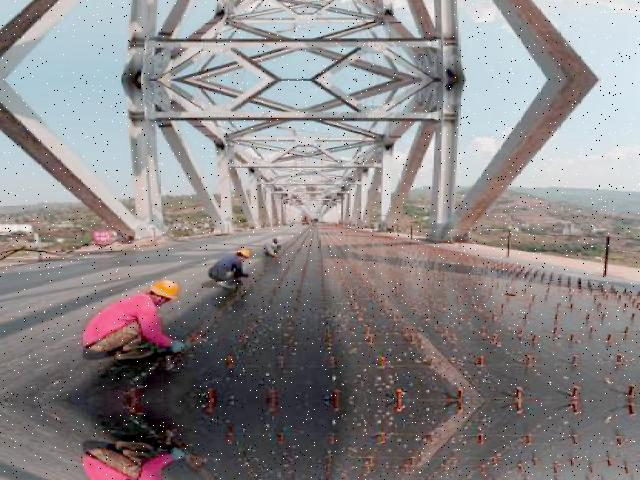Helmet: (142, 276, 181, 302), (233, 244, 250, 257)
